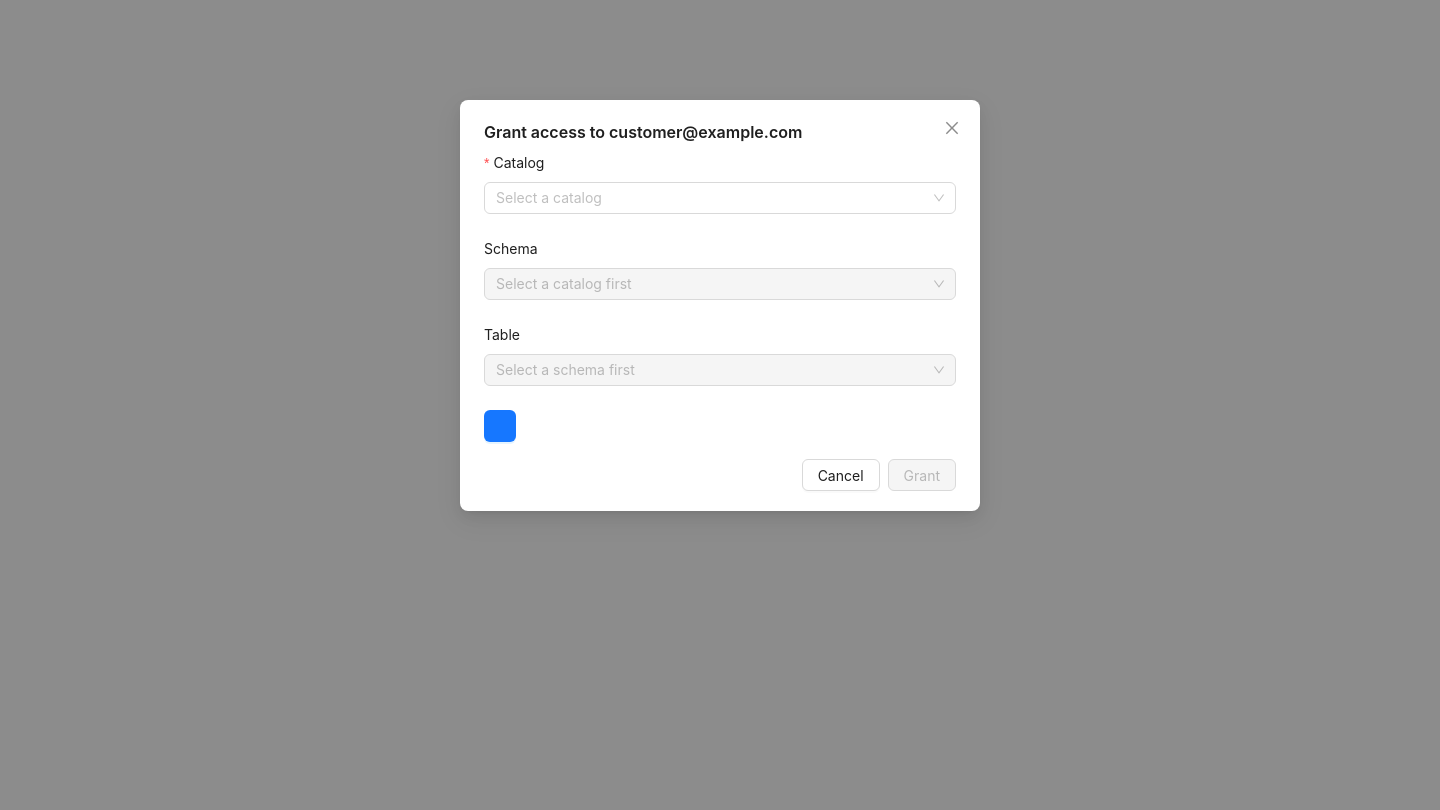
Test case: GrantToUserModal › disables read on a catalog for a non-admin and defaults to create
Press the mouse on the element showing "Select a catalog" at (720, 198), box 484,182 -> 956,214
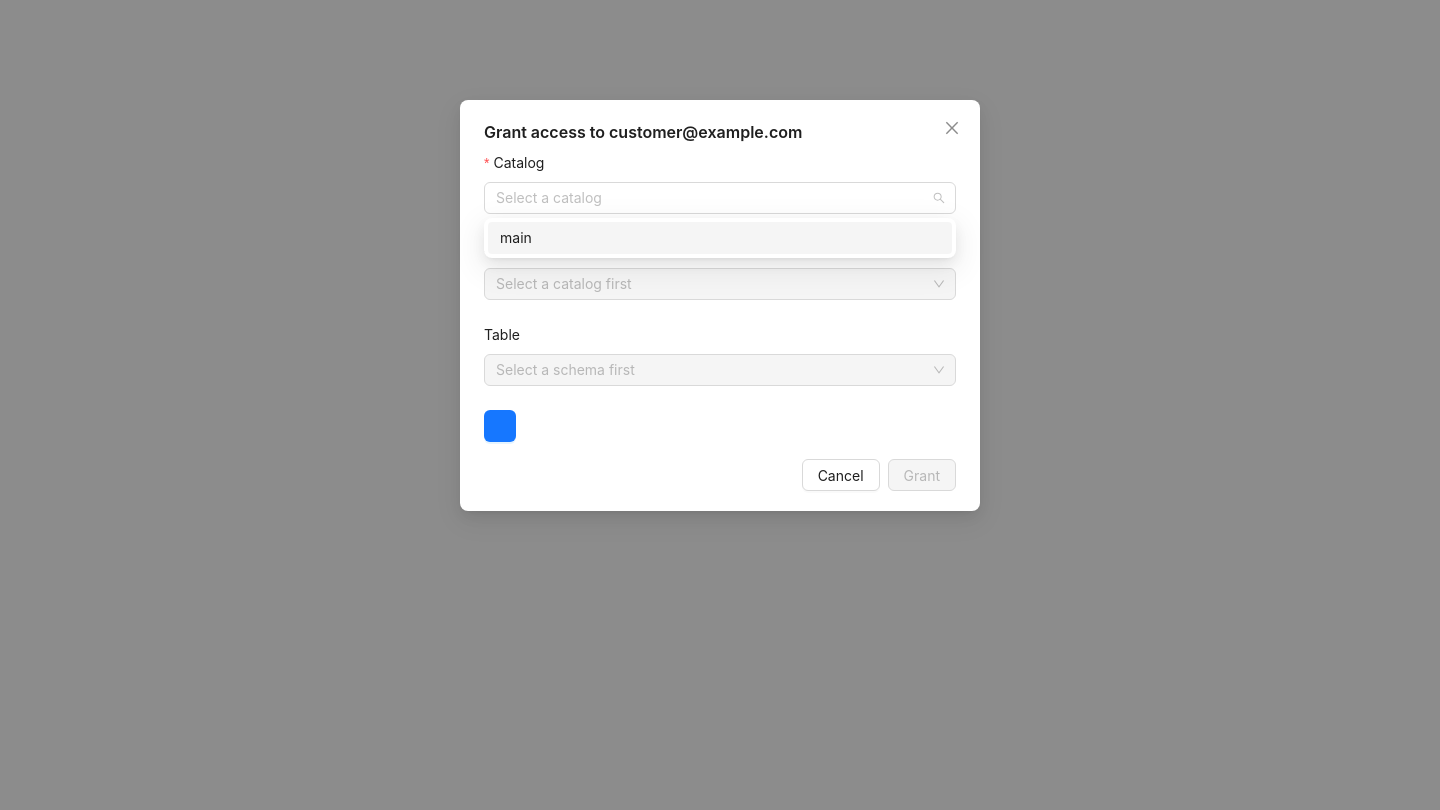
Click the element titled "main" at (720, 238), box 488,222 -> 952,254
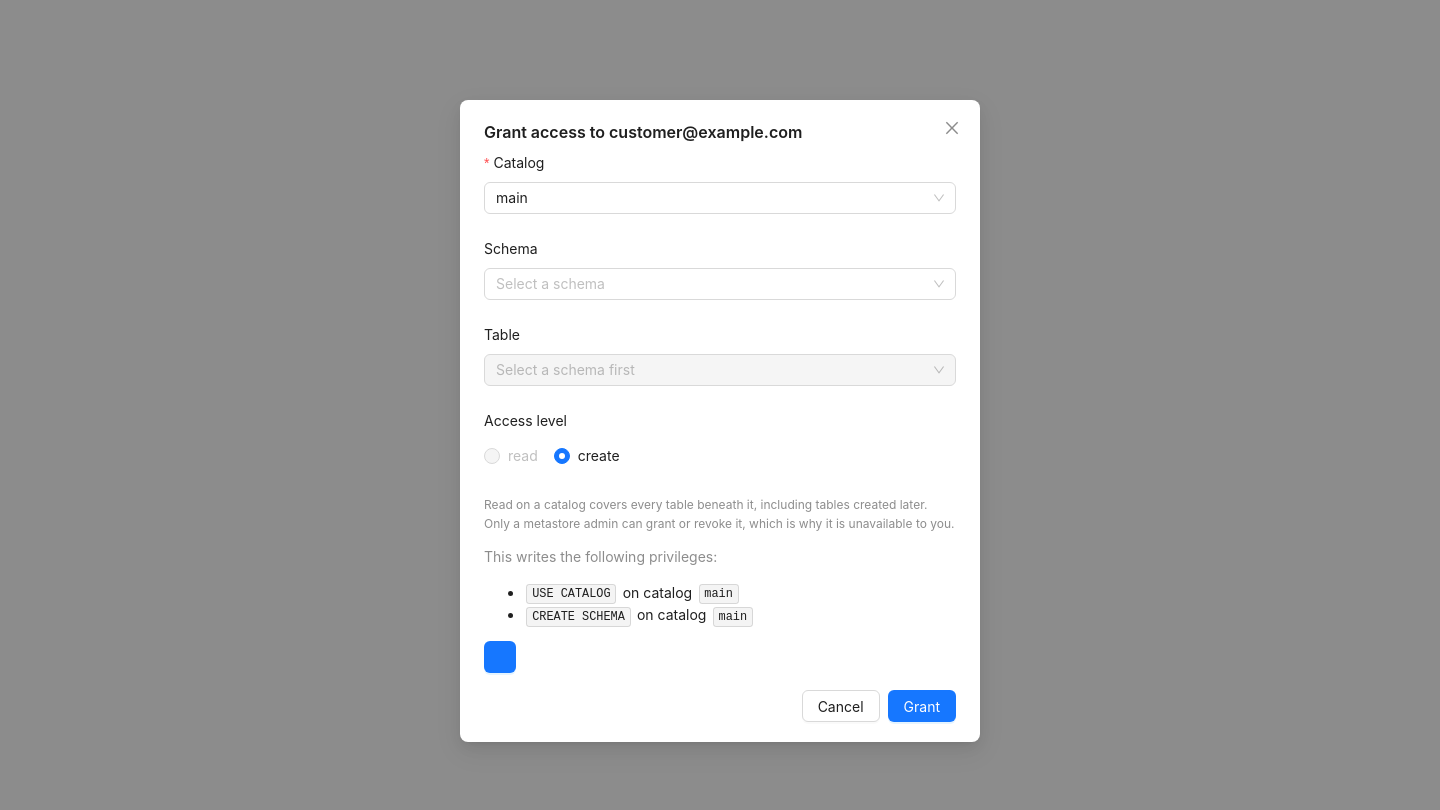
Result: the radio button labelled "read" is disabled at 484,445 -> 546,467
Result: the radio button labelled "create" is checked at 554,445 -> 628,467
Result: the text "CREATE SCHEMA" is shown at 526,607 -> 631,627
